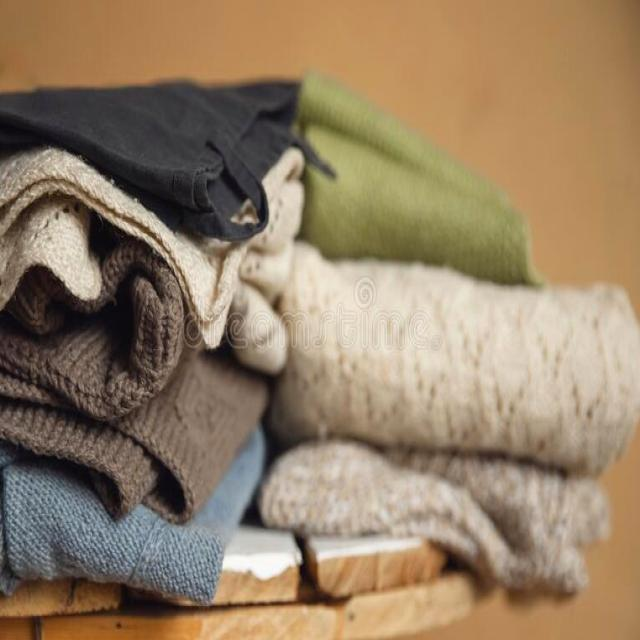clothes: (0, 253, 273, 595), (276, 290, 638, 526), (0, 59, 295, 241), (308, 82, 530, 275)
